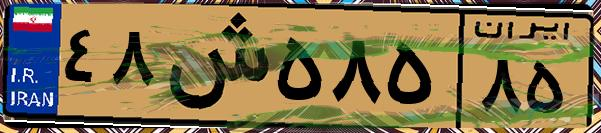4: (57, 26, 110, 100)
5: (270, 28, 330, 110), (385, 28, 445, 110), (525, 38, 570, 115)
8: (330, 28, 385, 110), (475, 38, 525, 113), (110, 28, 158, 98)
ش: (158, 12, 270, 120)
